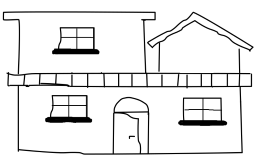big_house: (0, 0, 260, 161)
closed_window: (43, 21, 114, 64), (166, 92, 233, 130), (37, 90, 101, 129)
door: (109, 89, 157, 160)
single_line_roof: (0, 5, 159, 24)
wall: (11, 81, 247, 158)
